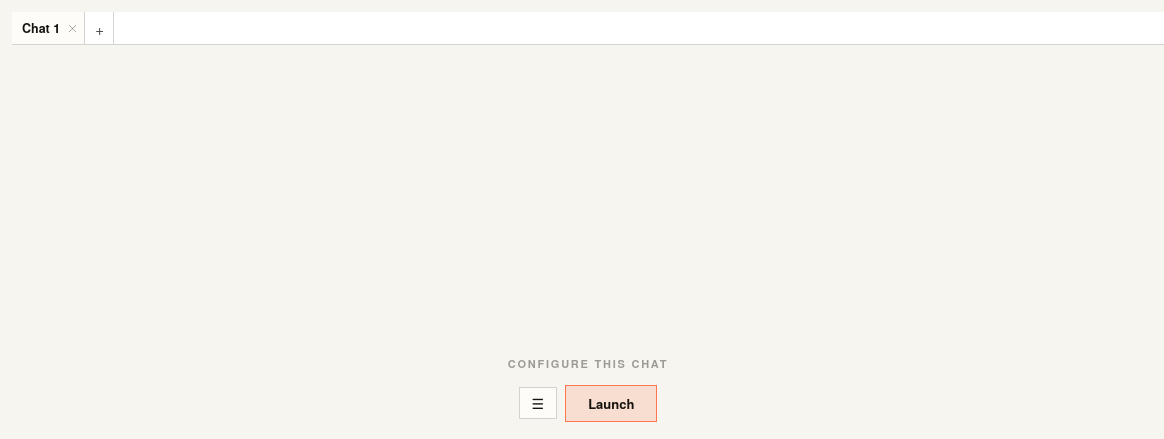
Scenario: ChatCard close › purges the closed tab's saved transcript so its history cannot leak
Click the button named "Close Chat 1".
click(72, 28)  # box [64,20,80,36]
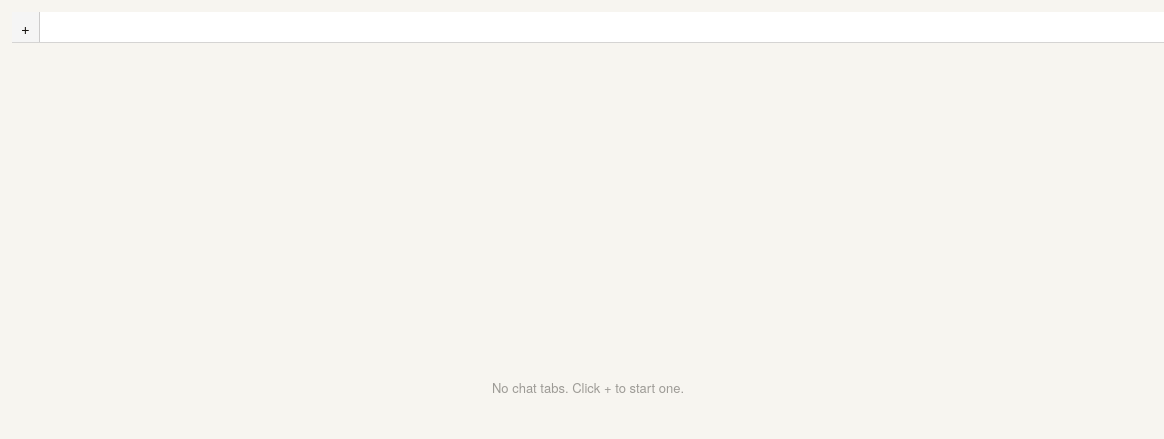
Result: the text "Chat 1" is gone
